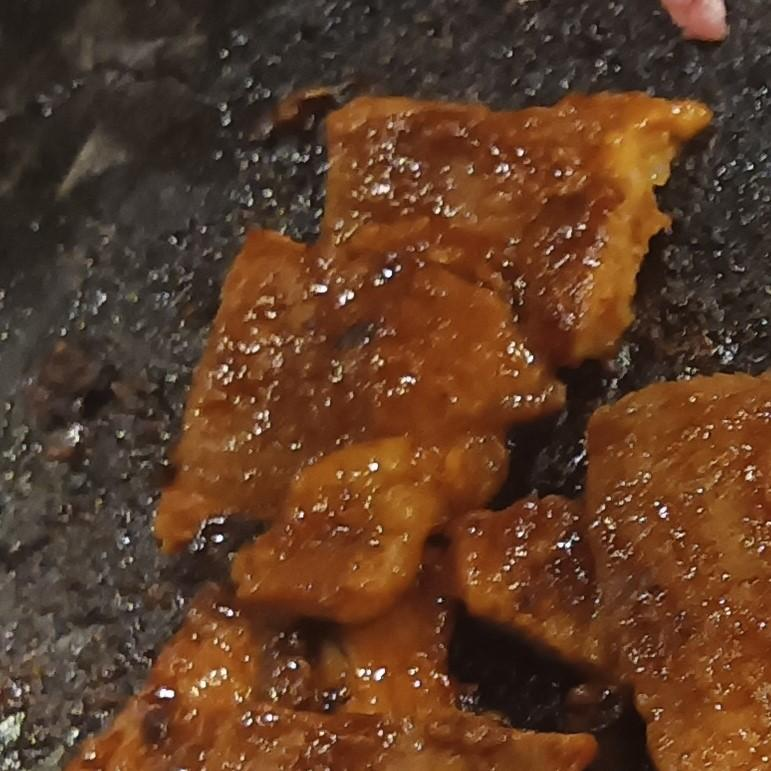Undercooked: (63, 94, 715, 770), (461, 369, 770, 770)
